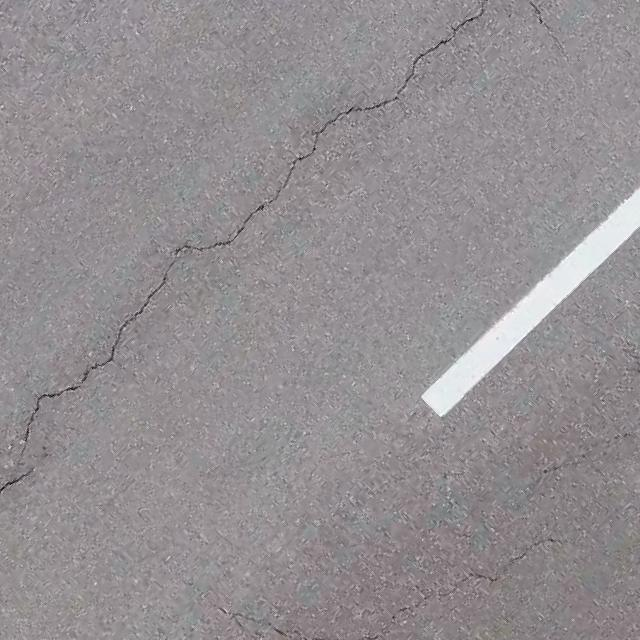GRIETA: (19, 1, 489, 458), (367, 537, 563, 639), (532, 432, 637, 493), (219, 608, 293, 639), (528, 0, 563, 54), (0, 468, 33, 494)
